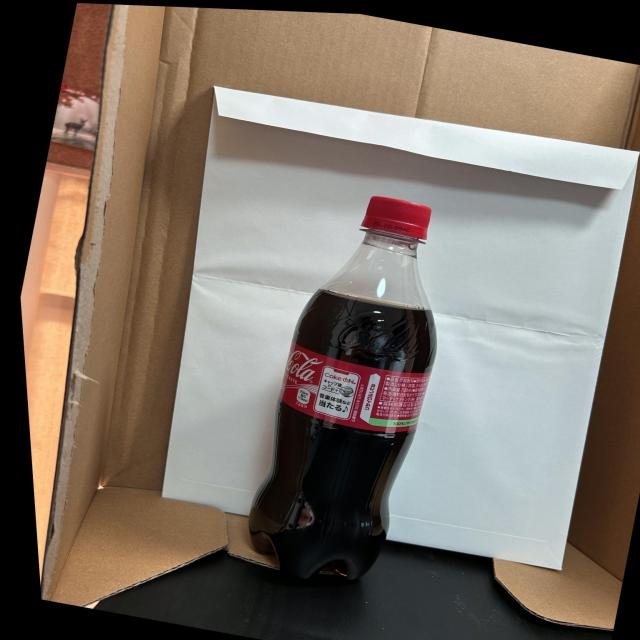high: (248, 197, 436, 580)
